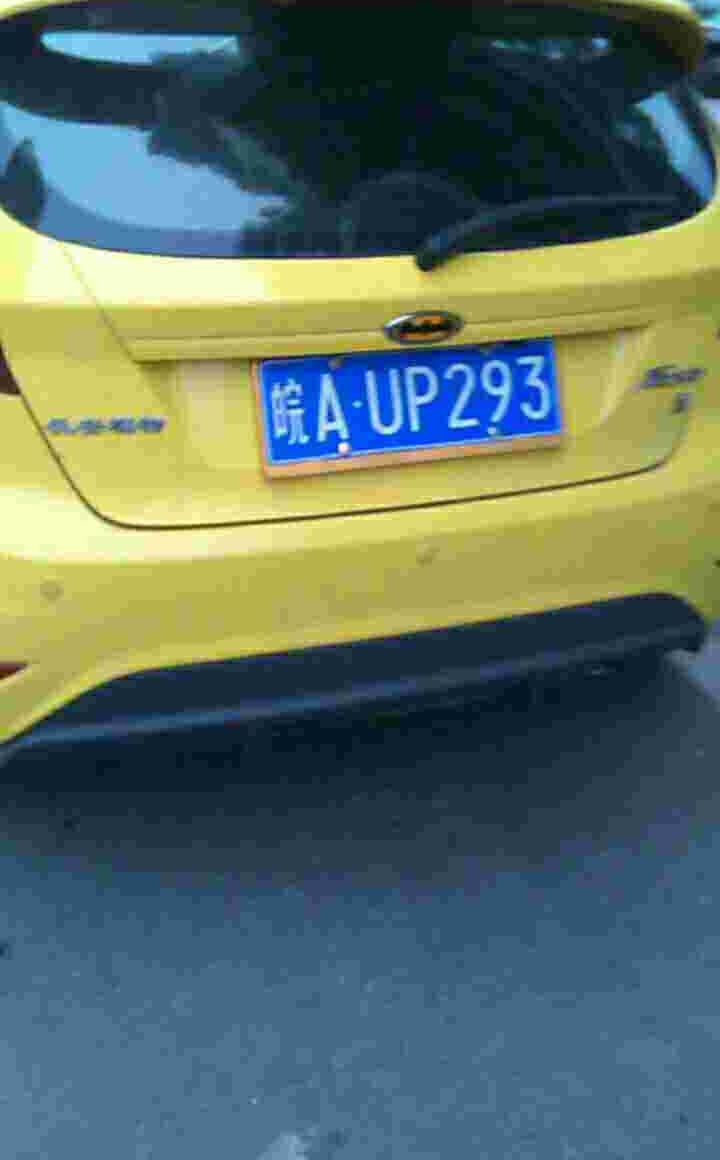license_plate: (263, 345, 567, 473)
